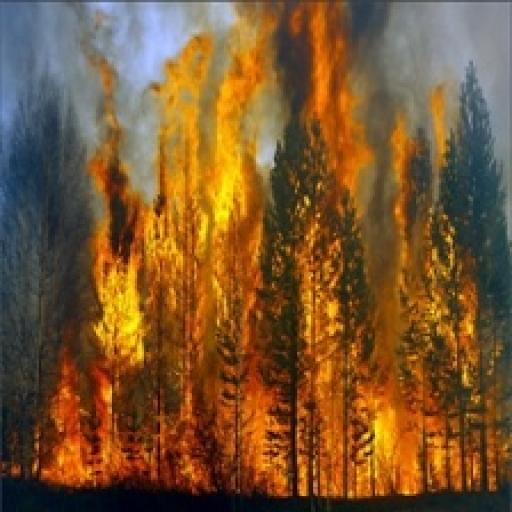fire and smoke: (53, 3, 452, 489)
